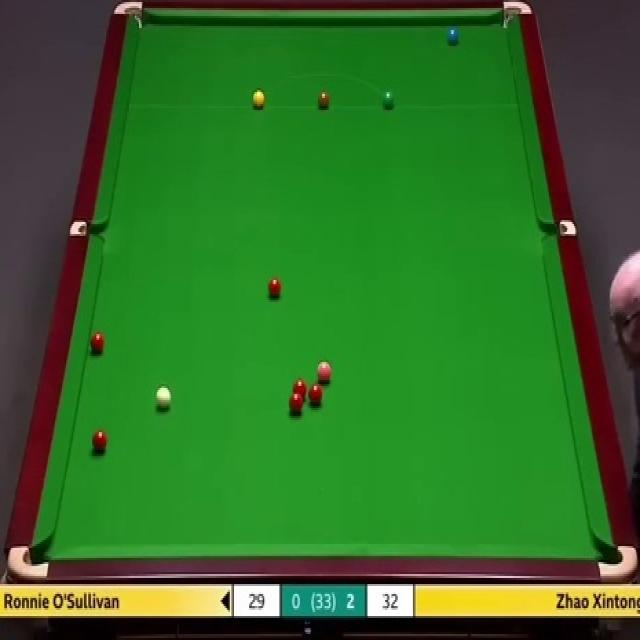blue-ball: (448, 27, 458, 48)
brown-ball: (317, 92, 330, 109)
green-ball: (382, 88, 396, 112)
pink-ball: (316, 359, 332, 383)
red-ball: (91, 427, 108, 455), (88, 330, 106, 356), (308, 383, 324, 407), (293, 378, 307, 402), (266, 278, 282, 297), (289, 392, 303, 413)
white-ball: (154, 386, 172, 411)
yellow-ball: (252, 89, 266, 110)
